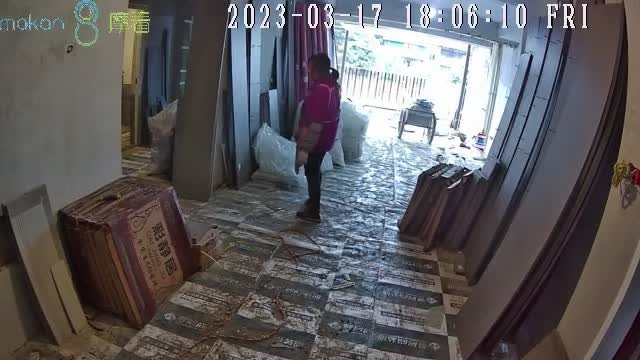people: (296, 53, 341, 220)
window: (334, 20, 491, 127)
